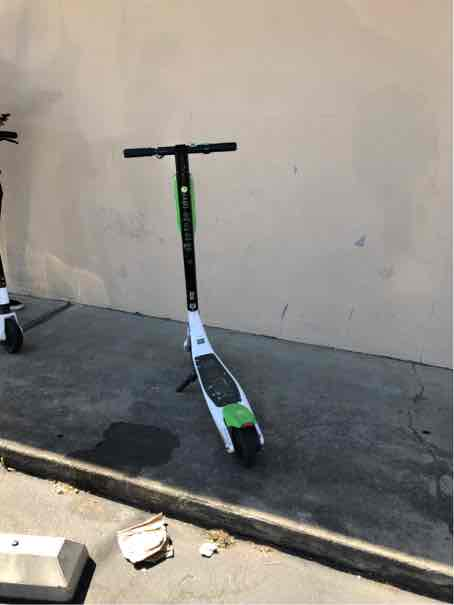scooter: (131, 115, 454, 296)
